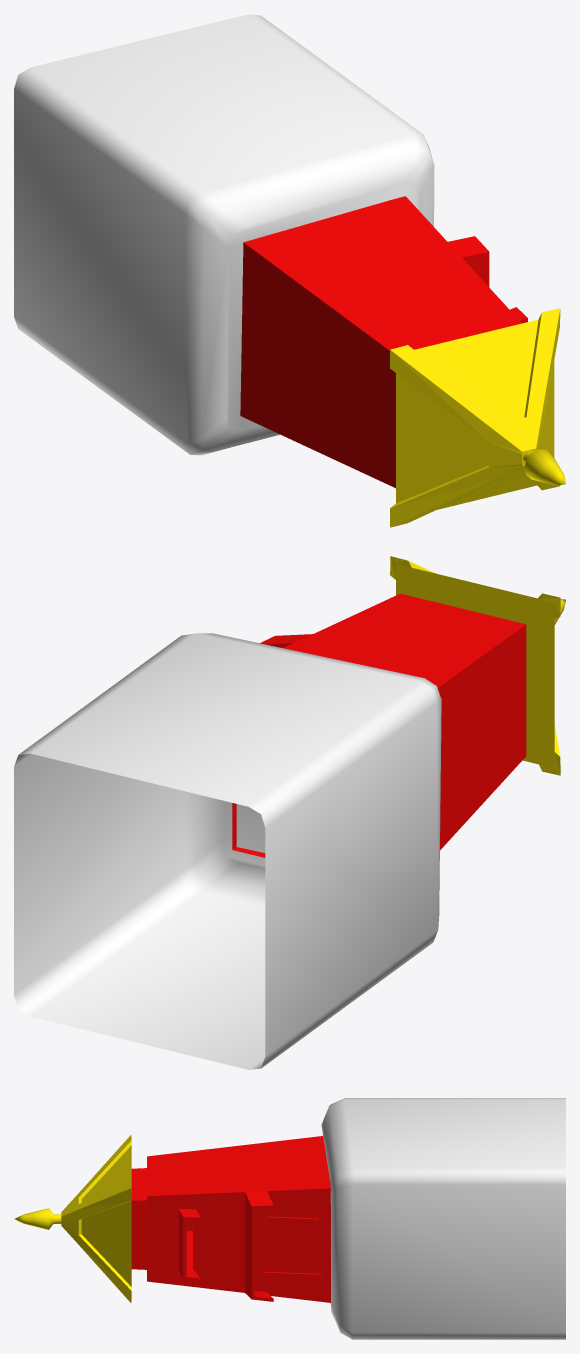
The model's file is LetterBox.FBX.
3 views of the same model, one above another, from view 1: azimuth 30°, elevation 25°; view 2: azimuth 150°, elevation 25°; view 3: azimuth 270°, elevation 25° (orthographic). The views are drawn at different scales.
Visible parts, largest first — view 1: LetterBox; view 2: LetterBox; view 3: LetterBox.
Boxes of the visible parts, bbox=[...] form: LetterBox: bbox=[14, 14, 565, 527]; LetterBox: bbox=[14, 556, 565, 1069]; LetterBox: bbox=[14, 1098, 565, 1339].
Size of the model in its own units: 0.9478 by 0.9478 by 2.79.
